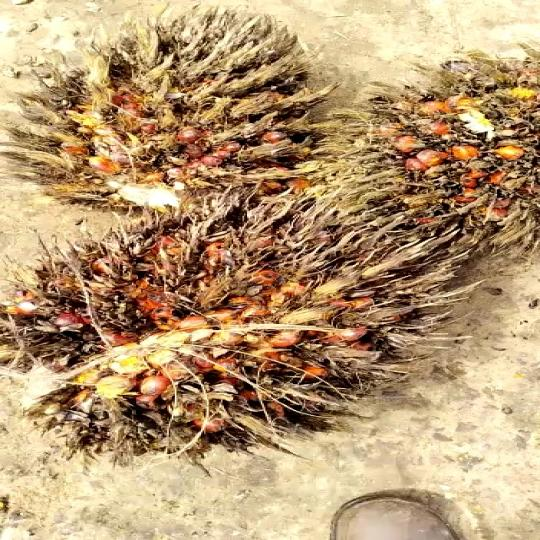terlalu masak: (0, 209, 479, 458), (0, 20, 351, 224), (302, 59, 540, 262)
